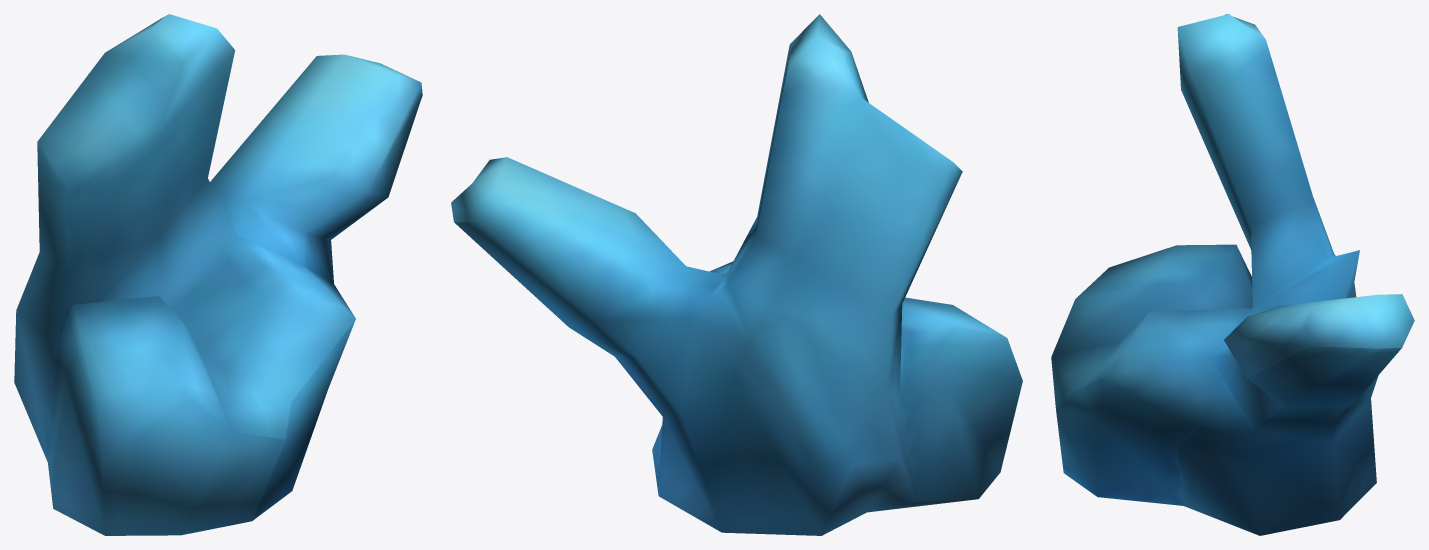
File: Stage_ZhuCheng_BingLing07.FBX
The picture shows the model from 3 angles, left to right: view 1: azimuth 30°, elevation 25°; view 2: azimuth 150°, elevation 25°; view 3: azimuth 270°, elevation 25°; orthographic projection. The views are drawn at different scales.
Parts seen in each view (by area): view 1: Stage_ZhuCheng_BingLing07; view 2: Stage_ZhuCheng_BingLing07; view 3: Stage_ZhuCheng_BingLing07.
Boxes of the visible parts, <box> form: Stage_ZhuCheng_BingLing07: <box>14,14,422,535</box>; Stage_ZhuCheng_BingLing07: <box>451,14,1022,535</box>; Stage_ZhuCheng_BingLing07: <box>1051,14,1414,535</box>.
Size of the model in its own units: 68.08 by 68.05 by 48.58.
